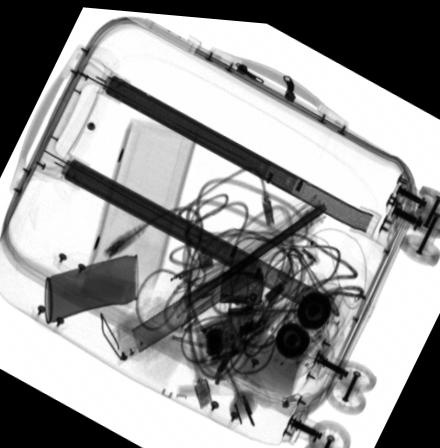Lighter: (219, 265, 264, 299)
